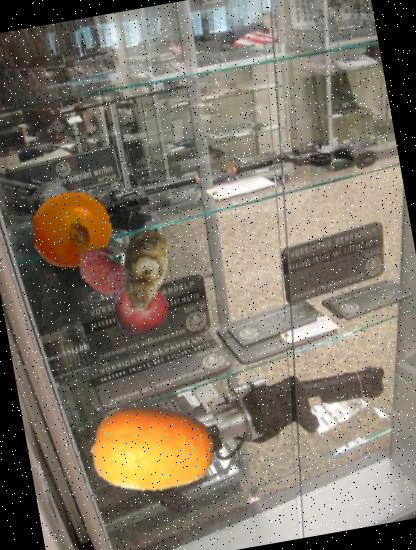Ginger: (98, 222, 192, 316)
Kumquats: (82, 379, 223, 520)
Physalis: (26, 184, 118, 276)
Pomegranate: (109, 276, 172, 338)
Strawberry: (71, 236, 136, 302)
